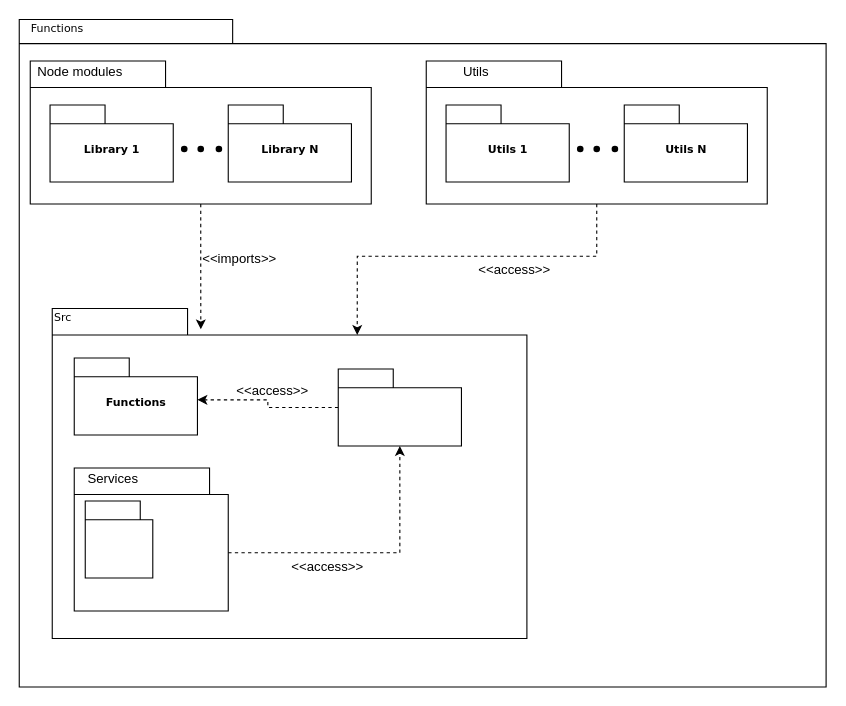
Image size: 846x706. Some labels were removed from this diagram. The shapes that lost their labels are listed below. From the top down, each one's box as (x1, y1, x2, y2) in pixels, then its label:
(337, 368, 461, 446): Controllers
(84, 500, 153, 578): PostgreSQL
